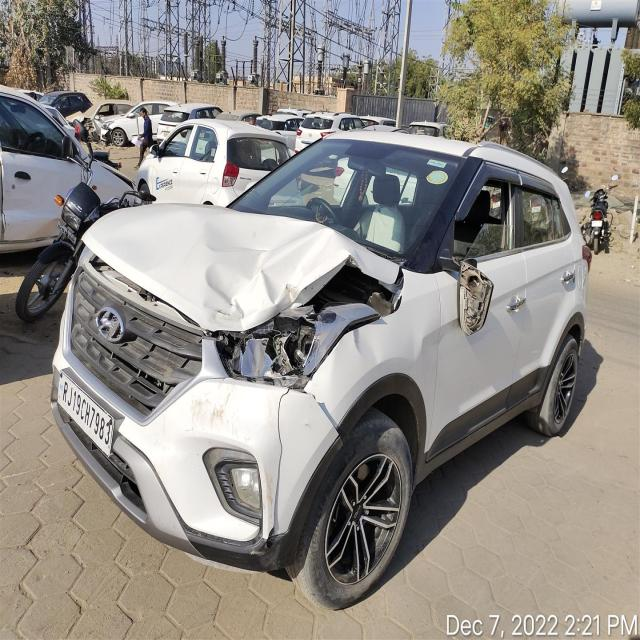damage: (203, 212, 373, 334), (216, 302, 378, 393), (264, 388, 298, 552), (351, 322, 451, 367), (183, 380, 240, 441), (457, 263, 494, 334)
